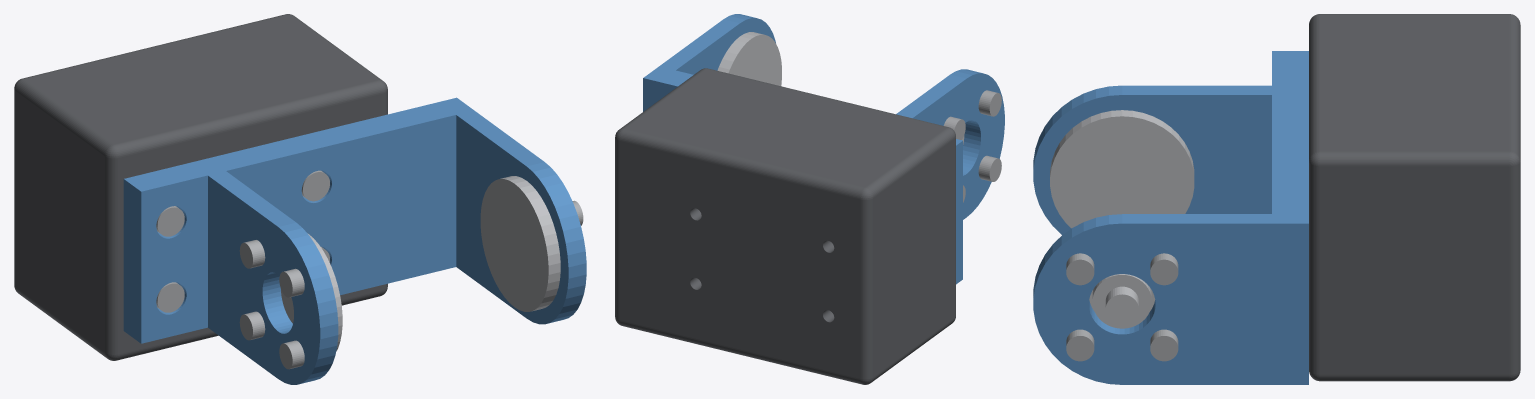
The model's file is hip_roll.glb.
3 renders of one model, left to right at view 1: azimuth 30°, elevation 25°; view 2: azimuth 150°, elevation 25°; view 3: azimuth 270°, elevation 25°, orthographic. The views are drawn at different scales.
Parts seen in each view (by area): view 1: geometry_15, geometry_2, geometry_0, geometry_1, geometry_13, geometry_14, geometry_11, geometry_8, geometry_9, geometry_7, geometry_10; view 2: geometry_2, geometry_15, geometry_0, geometry_8, geometry_7; view 3: geometry_2, geometry_15, geometry_1, geometry_0, geometry_4, geometry_5, geometry_3, geometry_6.
Part boxes in pixels (x1,y1,x2,y2): geometry_15: [123, 97, 586, 384]; geometry_2: [14, 14, 387, 360]; geometry_0: [480, 176, 560, 311]; geometry_1: [281, 233, 342, 350]; geometry_13: [156, 206, 184, 236]; geometry_14: [156, 282, 184, 312]; geometry_11: [301, 170, 329, 201]; geometry_8: [279, 340, 304, 369]; geometry_9: [239, 311, 265, 340]; geometry_7: [279, 268, 304, 297]; geometry_10: [239, 240, 265, 268]; geometry_2: [615, 68, 955, 384]; geometry_15: [643, 14, 1004, 284]; geometry_0: [717, 32, 781, 85]; geometry_8: [978, 155, 1001, 181]; geometry_7: [978, 90, 1001, 116]; geometry_2: [1309, 14, 1520, 381]; geometry_15: [1033, 51, 1308, 384]; geometry_1: [1050, 110, 1194, 228]; geometry_0: [1089, 274, 1155, 328]; geometry_4: [1066, 329, 1094, 361]; geometry_5: [1150, 329, 1178, 361]; geometry_3: [1066, 253, 1094, 285]; geometry_6: [1150, 253, 1178, 285].
Size of the model in its own units: 0.0593 by 0.034 by 0.0656.
